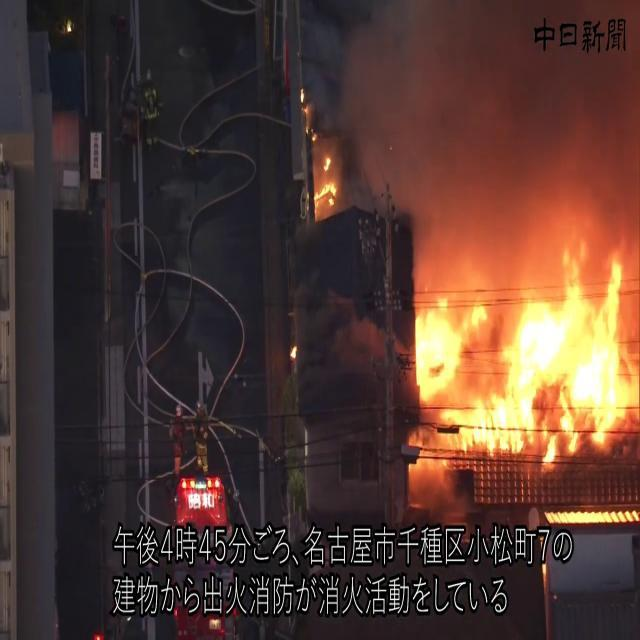Fire: (405, 238, 640, 464), (312, 157, 341, 216)
Smoke: (330, 0, 639, 244)
